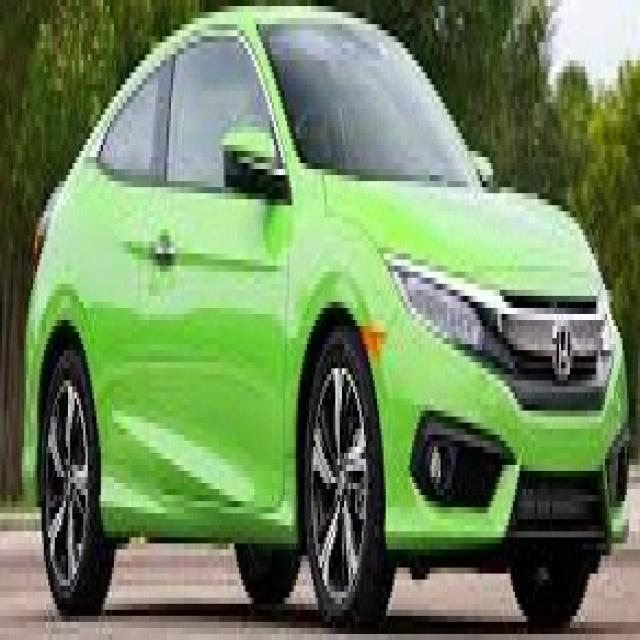green: (21, 6, 631, 632)
